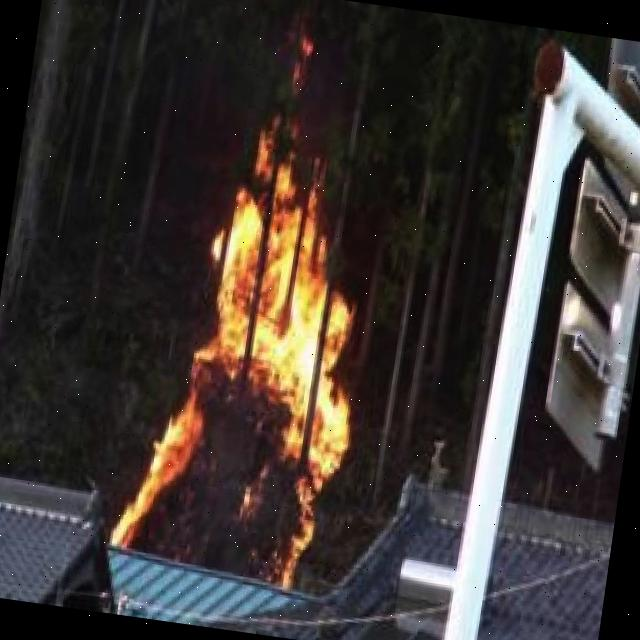fire: (128, 128, 388, 582)
